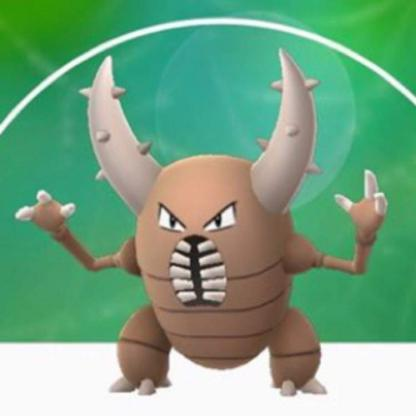Pinsir: (1, 1, 410, 416)
